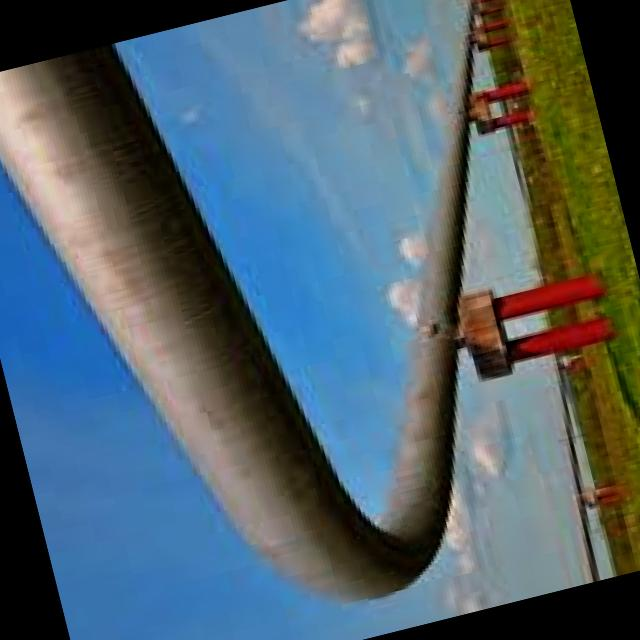gas: (0, 34, 467, 600)
